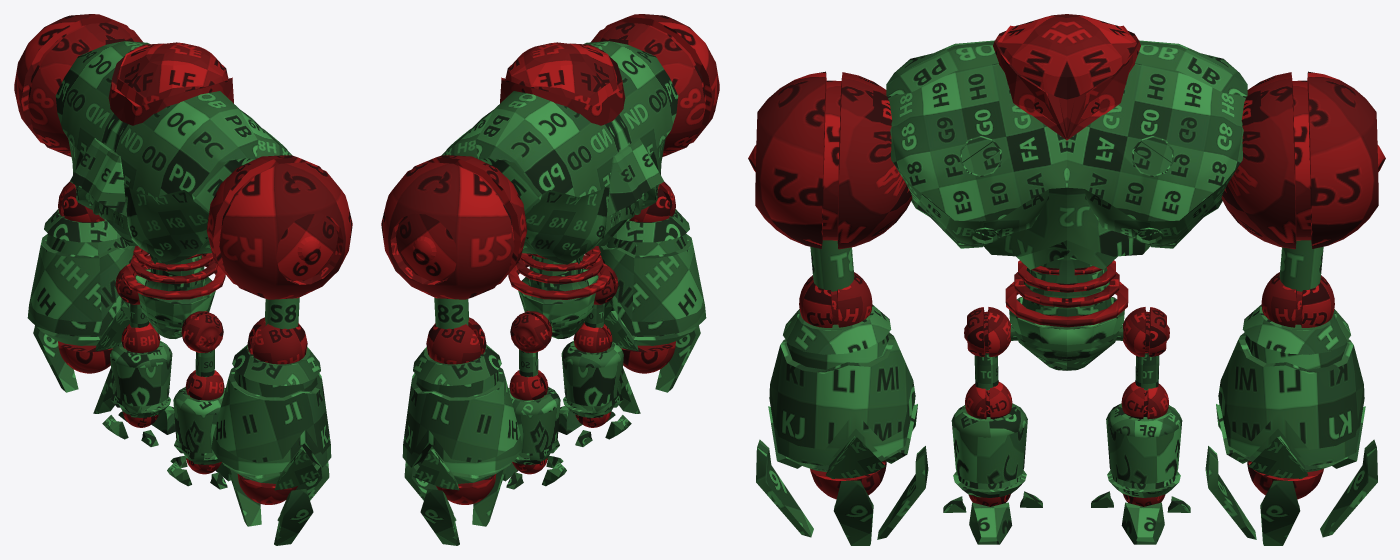
File: robot 2 collord virts.fbx
3 views of the same model, side by side, from view 1: azimuth 30°, elevation 25°; view 2: azimuth 150°, elevation 25°; view 3: azimuth 270°, elevation 25° (orthographic). The views are drawn at different scales.
Parts seen in each view (by area): view 1: R_Forarm (×2), R_Shoulder (×2), chest_top1, head, R_Calf (×2), R_eLBOW (×2), stomach_and_hips, vent_shell, R_finger2 (×2), R_Wrist (×2), R_Hip_rotator (×2), R_Knee1 (×2) (+9 smaller); view 2: R_Forarm (×2), R_Shoulder (×2), chest_top1, head, R_Calf (×2), R_eLBOW (×2), stomach_and_hips, vent_shell, R_finger2 (×2), R_Wrist (×2), R_Hip_rotator (×2), R_Knee1 (×2) (+9 smaller); view 3: chest_top1, R_Shoulder (×2), R_Forarm (×2), head, R_Calf (×2), stomach_and_hips, R_eLBOW (×2), chest_layer_2, R_finger1 (×2), R_Hip_rotator (×2), R_finger2 (×2), R_Bicep (×2) (+8 smaller).
Boxes of the visible parts, left/top/right/bottom form: R_Forarm (×2): left=27, top=209, right=331, bottom=490; R_Shoulder (×2): left=14, top=14, right=352, bottom=299; chest_top1: left=55, top=41, right=292, bottom=264; head: left=108, top=42, right=233, bottom=125; R_Calf (×2): left=110, top=340, right=225, bottom=464; R_eLBOW (×2): left=58, top=181, right=307, bottom=364; stomach_and_hips: left=135, top=255, right=215, bottom=338; vent_shell: left=70, top=138, right=127, bottom=216; R_finger2 (×2): left=33, top=325, right=313, bottom=545; R_Wrist (×2): left=58, top=341, right=297, bottom=504; R_Hip_rotator (×2): left=115, top=266, right=223, bottom=352; R_Knee1 (×2): left=121, top=322, right=224, bottom=400; R_Forarm (×2): left=402, top=209, right=706, bottom=490; R_Shoulder (×2): left=381, top=14, right=719, bottom=299; chest_top1: left=441, top=41, right=678, bottom=264; head: left=500, top=42, right=625, bottom=125; R_Calf (×2): left=508, top=340, right=623, bottom=464; R_eLBOW (×2): left=426, top=181, right=675, bottom=364; stomach_and_hips: left=518, top=255, right=598, bottom=338; vent_shell: left=606, top=138, right=663, bottom=216; R_finger2 (×2): left=420, top=325, right=700, bottom=545; R_Wrist (×2): left=436, top=341, right=675, bottom=504; R_Hip_rotator (×2): left=510, top=266, right=618, bottom=352; R_Knee1 (×2): left=509, top=322, right=612, bottom=400; chest_top1: left=886, top=40, right=1247, bottom=248; R_Shoulder (×2): left=748, top=71, right=1385, bottom=249; R_Forarm (×2): left=768, top=304, right=1365, bottom=478; head: left=993, top=14, right=1140, bottom=140; R_Calf (×2): left=951, top=403, right=1182, bottom=497; stomach_and_hips: left=1009, top=256, right=1124, bottom=370; R_eLBOW (×2): left=799, top=272, right=1334, bottom=327; chest_layer_2: left=983, top=187, right=1150, bottom=256; R_finger1 (×2): left=833, top=480, right=1300, bottom=545; R_Hip_rotator (×2): left=964, top=307, right=1169, bottom=356; R_finger2 (×2): left=756, top=439, right=1377, bottom=537; R_Bicep (×2): left=810, top=240, right=1323, bottom=291.
Size of the model in its own units: 0.6693 by 1.57 by 1.77.
3 materials, 2 textured.
